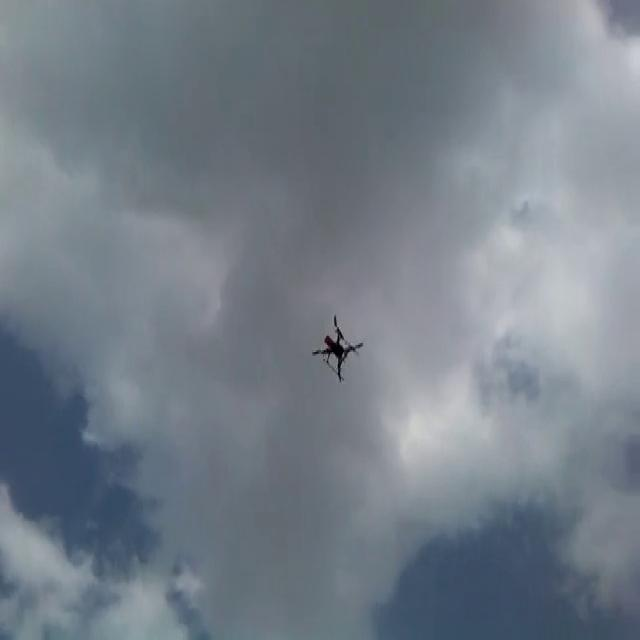drone: (310, 311, 364, 384)
